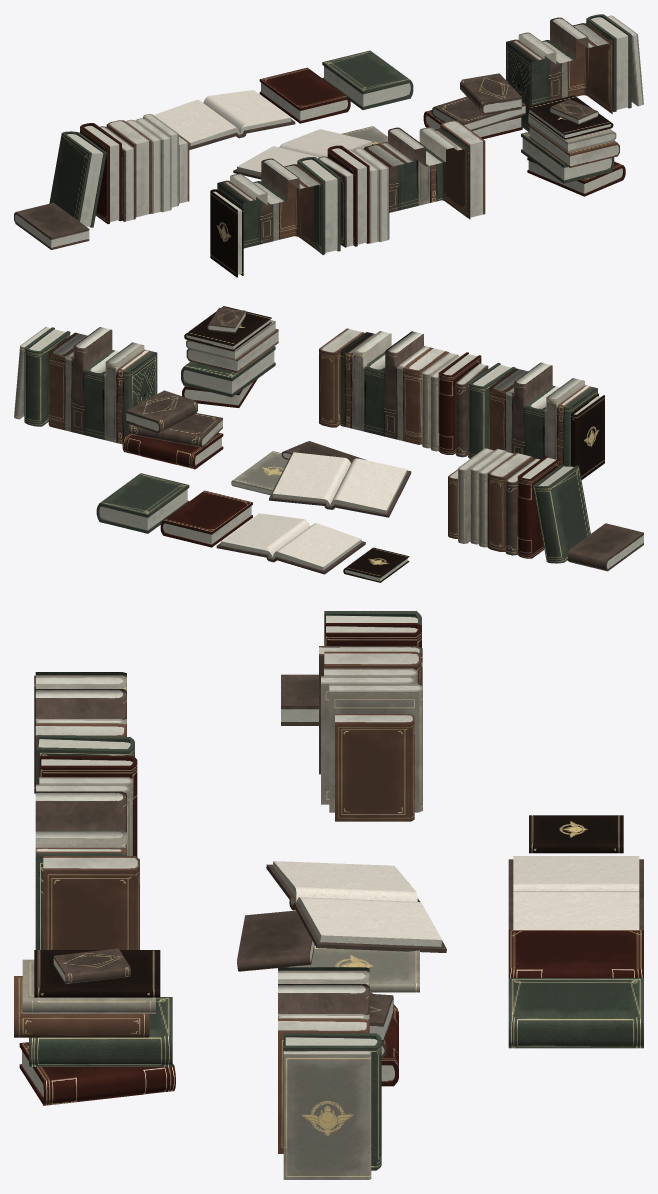
The model's file is Books.glb.
3 views of the same model, one above another, from view 1: azimuth 30°, elevation 25°; view 2: azimuth 150°, elevation 25°; view 3: azimuth 270°, elevation 25° (orthographic). The views are drawn at different scales.
Visible parts, largest first — view 1: prop_book_02_inst_001_prop_books_01_mt_0; view 2: prop_book_02_inst_001_prop_books_01_mt_0; view 3: prop_book_02_inst_001_prop_books_01_mt_0.
Part boxes in pixels (bbox=[...]): prop_book_02_inst_001_prop_books_01_mt_0: bbox=[14, 14, 643, 277]; prop_book_02_inst_001_prop_books_01_mt_0: bbox=[14, 306, 643, 582]; prop_book_02_inst_001_prop_books_01_mt_0: bbox=[14, 611, 643, 1179].
Bounding box in the file's own units: 3.55 × 0.4888 × 1.95.
1 material, 1 textured.
